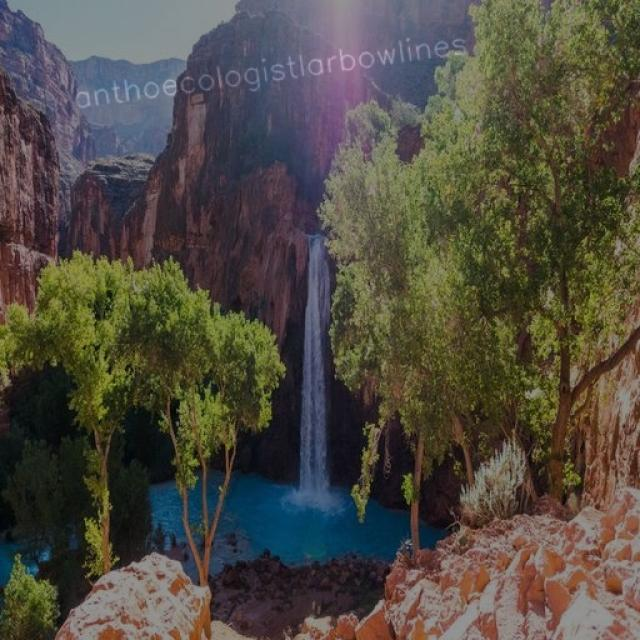watermark: (66, 28, 467, 113)
